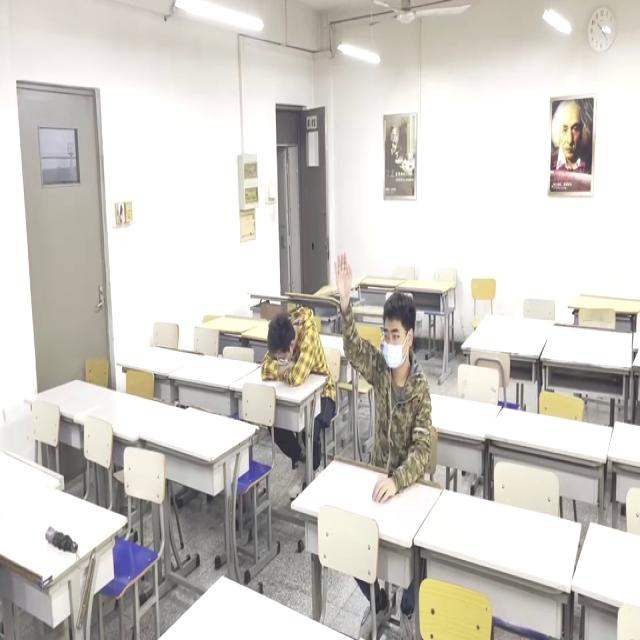sleep: (261, 306, 331, 384)
